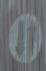Two way: (2, 4, 41, 63)
